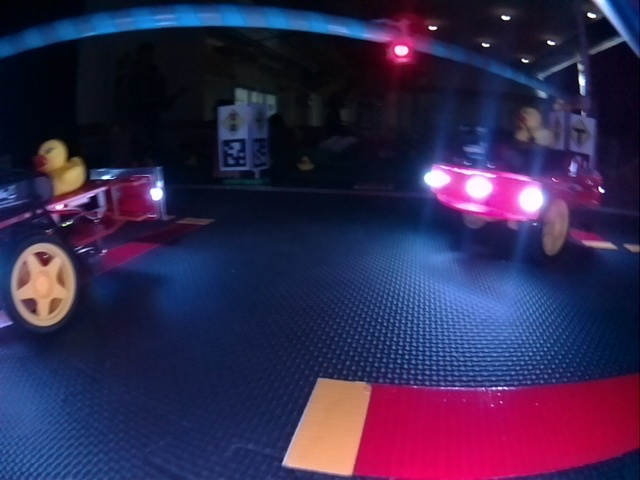Duckie: (37, 140, 85, 192), (515, 107, 551, 145), (296, 156, 314, 171)
Duckiebot: (1, 166, 164, 336), (431, 156, 601, 258)
Intersection sign: (570, 120, 592, 149), (254, 108, 267, 134)
QR code: (219, 140, 245, 169), (249, 138, 269, 167)
Signal sign: (219, 109, 245, 135)
Traffic light: (383, 19, 415, 60)
